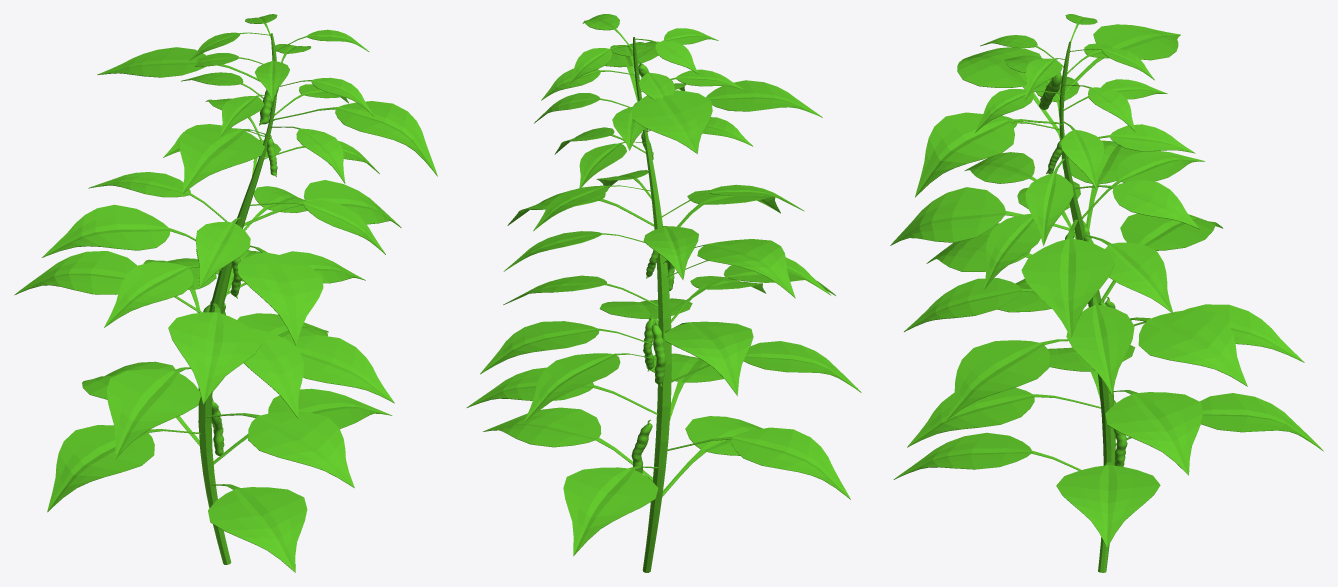
File: soybeans2.fbx
3 renders of one model, left to right at view 1: azimuth 30°, elevation 25°; view 2: azimuth 150°, elevation 25°; view 3: azimuth 270°, elevation 25°, orthographic. The views are drawn at different scales.
Visible parts, largest first — view 1: soy beans stage 2; view 2: soy beans stage 2; view 3: soy beans stage 2.
Boxes of the visible parts, x1,y1,x2,y2 form: soy beans stage 2: (14,14,437,572); soy beans stage 2: (466,14,861,572); soy beans stage 2: (890,14,1323,572).
Bounding box in the file's own units: 64.11 × 90.89 × 65.03.
